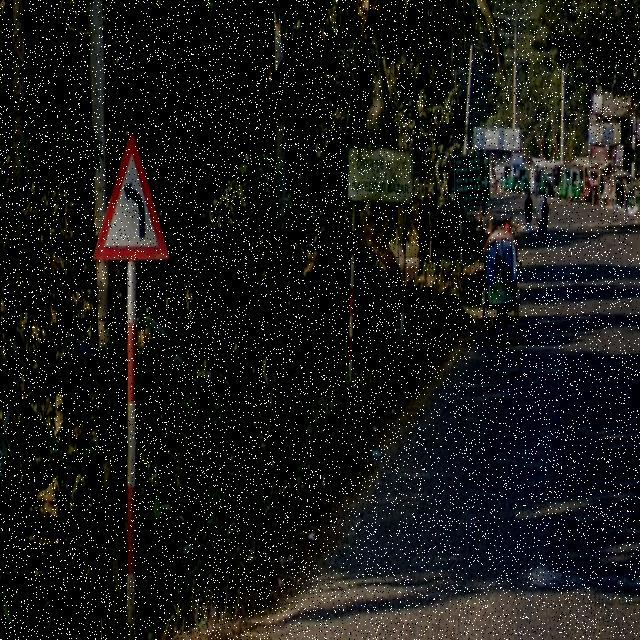Left-Turn: (93, 132, 168, 262)
